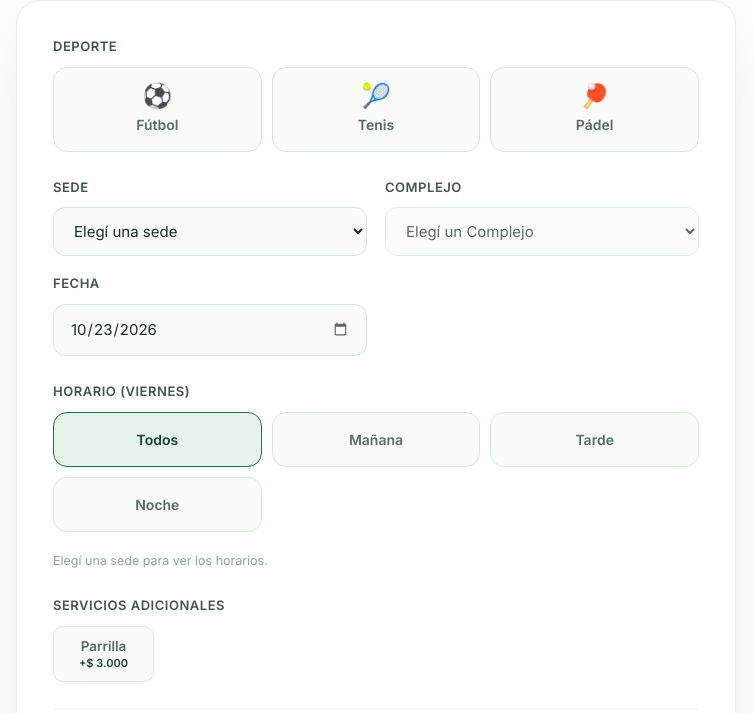
BookingForm › lista los horarios del día con su precio
Click the button "⚽ Fútbol". click: (157, 109)
box: [53,66,262,152]
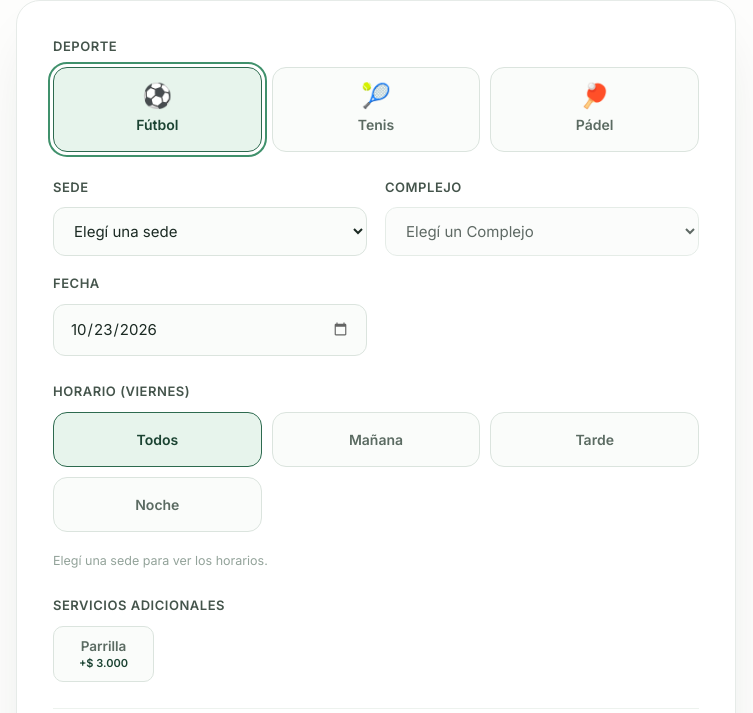
Select "Rosario" in the dropdown labelled "Sede". click: (210, 232)
box: [53,207,367,256]
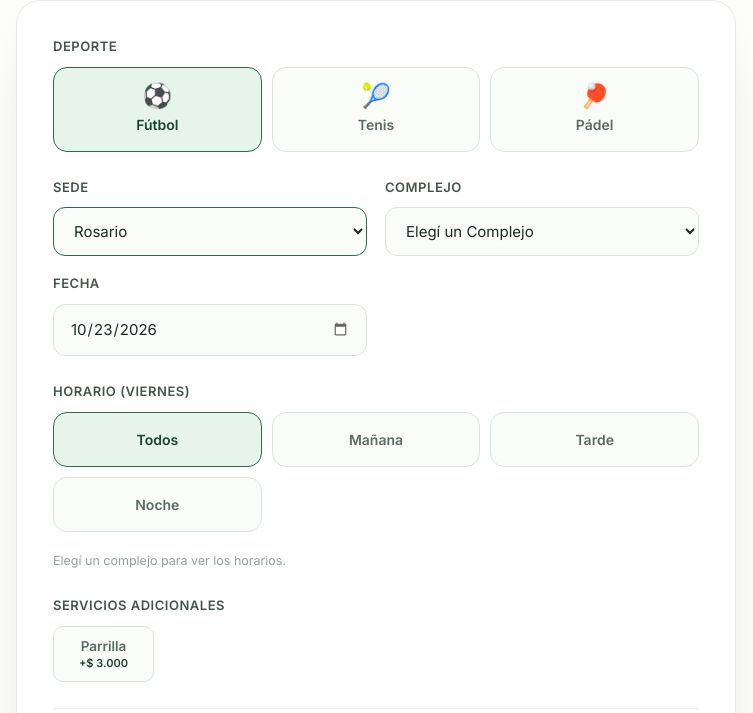
Select "Rosario Sport Center" in the dropdown labelled "Complejo". click: (542, 232)
box: [385,207,699,256]
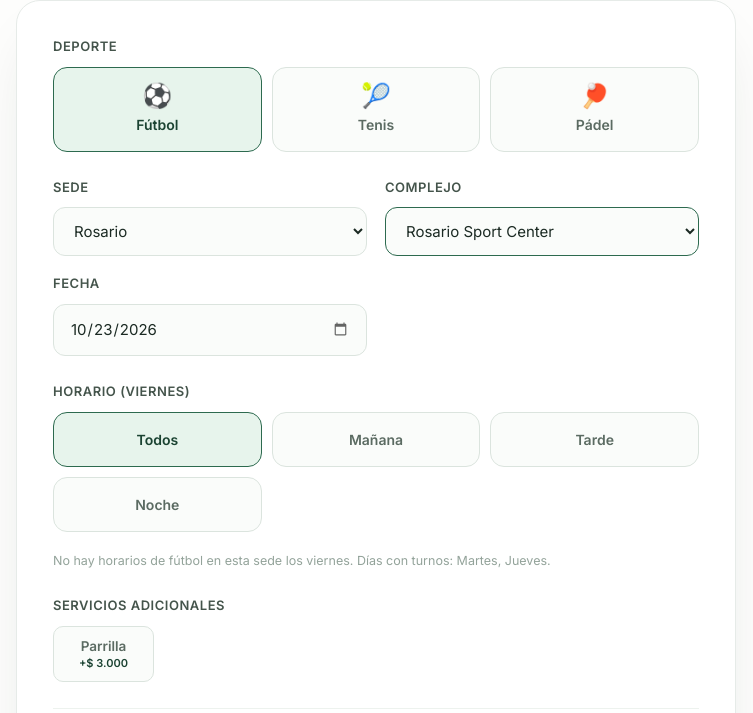
Type "2026-09-10" into the date field labelled "Fecha". click: (210, 330)
box: [53,304,367,356]
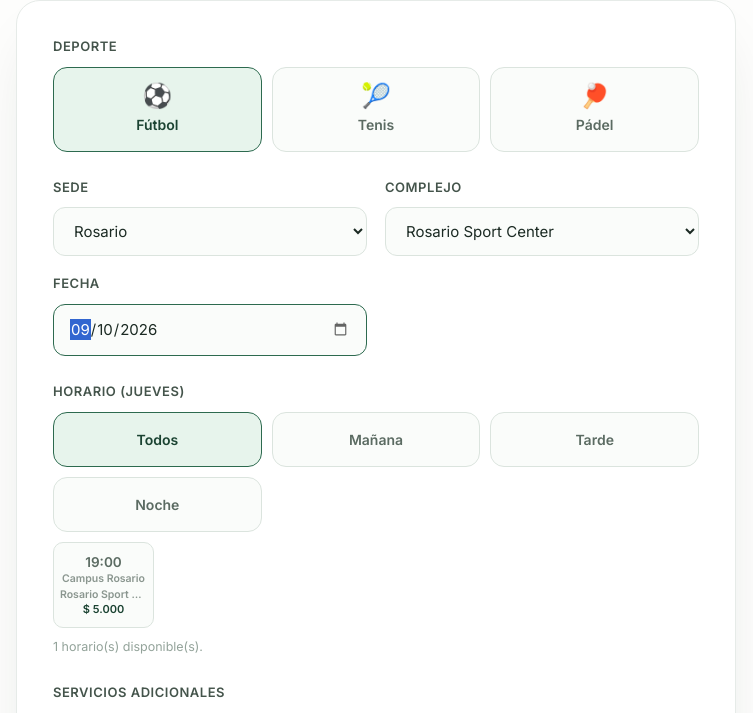
Check: the button "19:00 Campus Rosario Rosario Sport Center $ 5.000" is shown, box [53,542,154,628]
